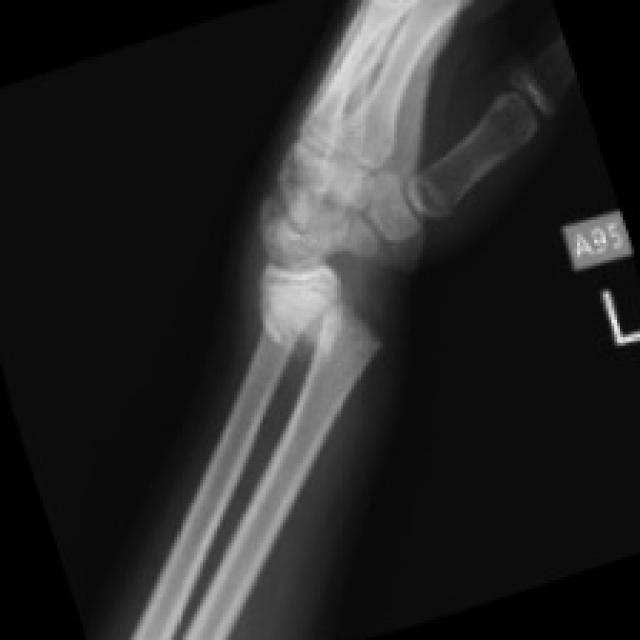fracture: (310, 215, 450, 412)
